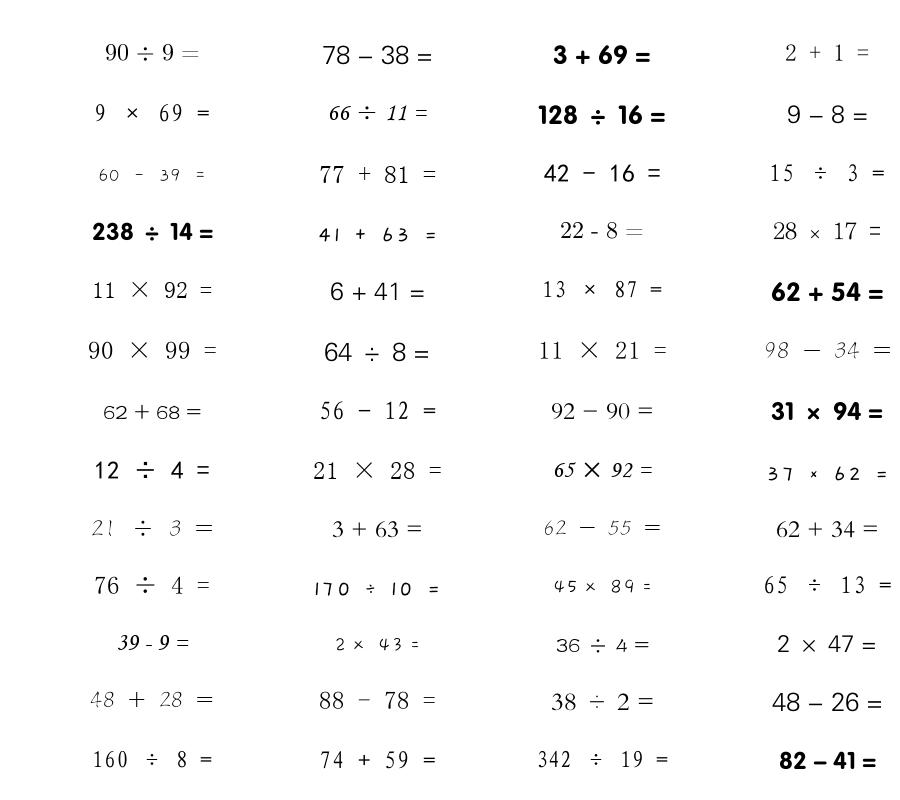MQ: (538, 105, 666, 125), (536, 750, 668, 768), (88, 341, 217, 359), (538, 341, 667, 359), (763, 576, 892, 594), (92, 222, 213, 241), (764, 341, 891, 359), (771, 282, 884, 302), (771, 401, 883, 421), (319, 401, 436, 420), (322, 45, 433, 65), (772, 692, 883, 712), (313, 462, 442, 479), (542, 280, 662, 298), (92, 750, 212, 768), (324, 342, 430, 362), (90, 691, 214, 708), (544, 164, 661, 182), (319, 691, 436, 709), (319, 751, 436, 769), (94, 104, 210, 122), (769, 164, 885, 182), (94, 461, 210, 479), (94, 576, 210, 594), (91, 520, 213, 537), (92, 281, 212, 298), (319, 166, 436, 183), (553, 45, 651, 65), (773, 222, 881, 240), (551, 693, 654, 711), (766, 466, 889, 481), (779, 751, 876, 770), (317, 227, 438, 242), (330, 282, 425, 301), (313, 582, 441, 596), (543, 520, 661, 535), (551, 403, 654, 420), (776, 521, 879, 538), (105, 43, 200, 61), (777, 635, 877, 652), (327, 105, 427, 121), (552, 462, 652, 478), (103, 404, 201, 420), (332, 521, 423, 538), (787, 105, 868, 124), (98, 168, 207, 182), (560, 221, 644, 239), (553, 579, 652, 594), (785, 44, 869, 61), (556, 638, 649, 653), (334, 637, 420, 652), (116, 635, 189, 650)
